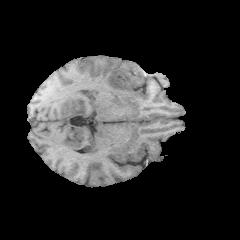glioma: (107, 61, 147, 99)
